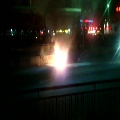fire: (50, 41, 67, 70)
